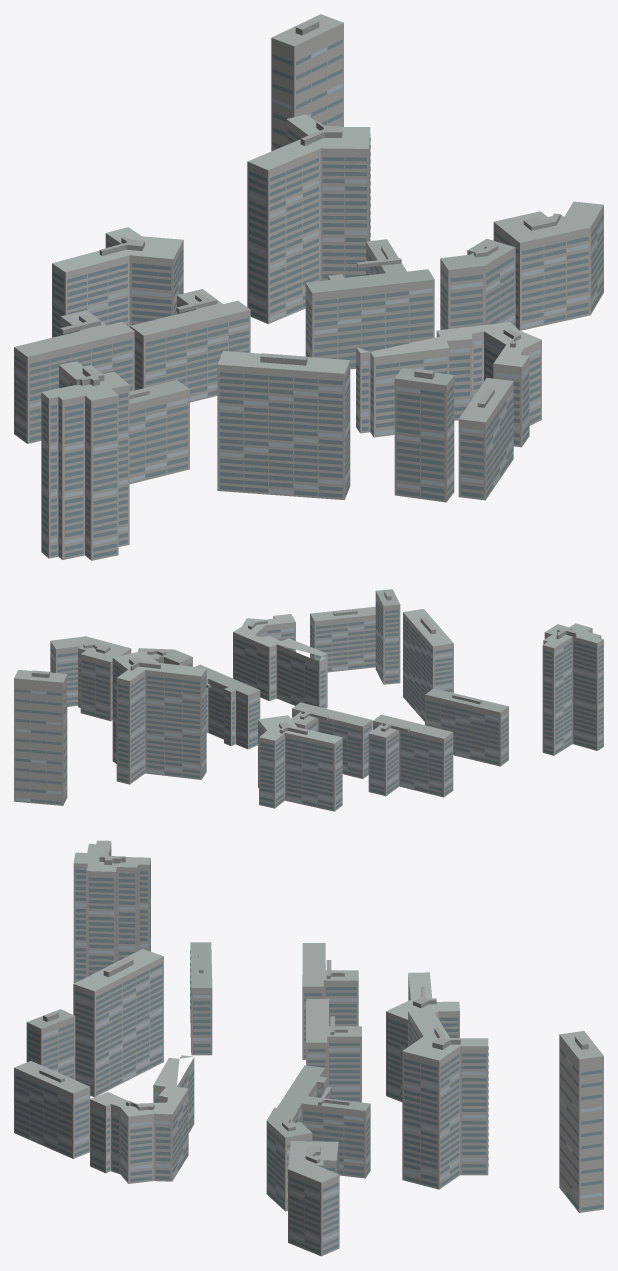
Rendered from apt-a10024938.glb.
3 views of the same model, one above another, from view 1: azimuth 30°, elevation 25°; view 2: azimuth 150°, elevation 25°; view 3: azimuth 270°, elevation 25° (orthographic). The views are drawn at different scales.
Visible parts, largest first — view 1: apt-a10024938; view 2: apt-a10024938; view 3: apt-a10024938.
Part boxes in pixels (x1,y1,x2,y2): apt-a10024938: (14, 14, 603, 560); apt-a10024938: (14, 589, 603, 811); apt-a10024938: (14, 840, 603, 1256).
Size of the model in its own units: 300 by 78.65 by 265.
